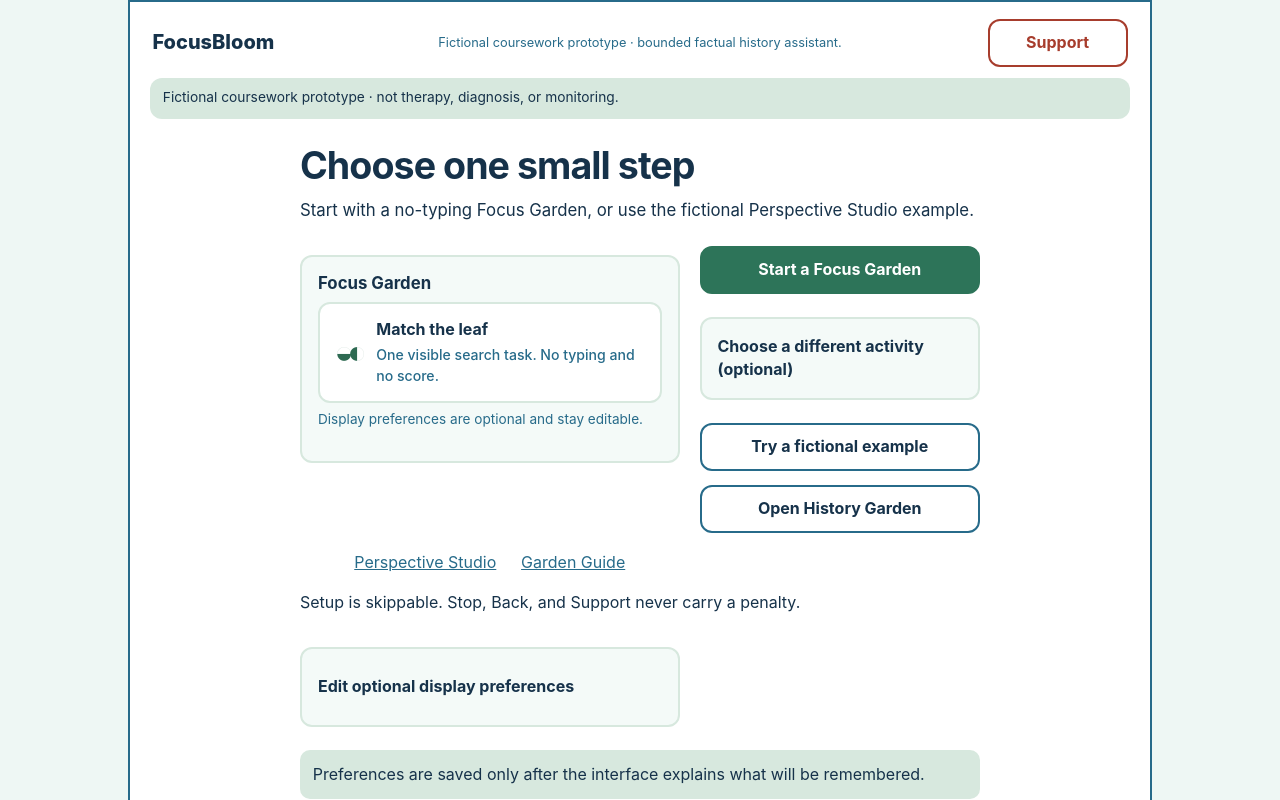
Test: FocusBloom Vue experience › shows factual populated history and a no-match Garden Guide outcome without an invented answer
Step 1. Click the button with class "secondary" showing "Open History Garden" → (840, 509), box [700,485,980,533]
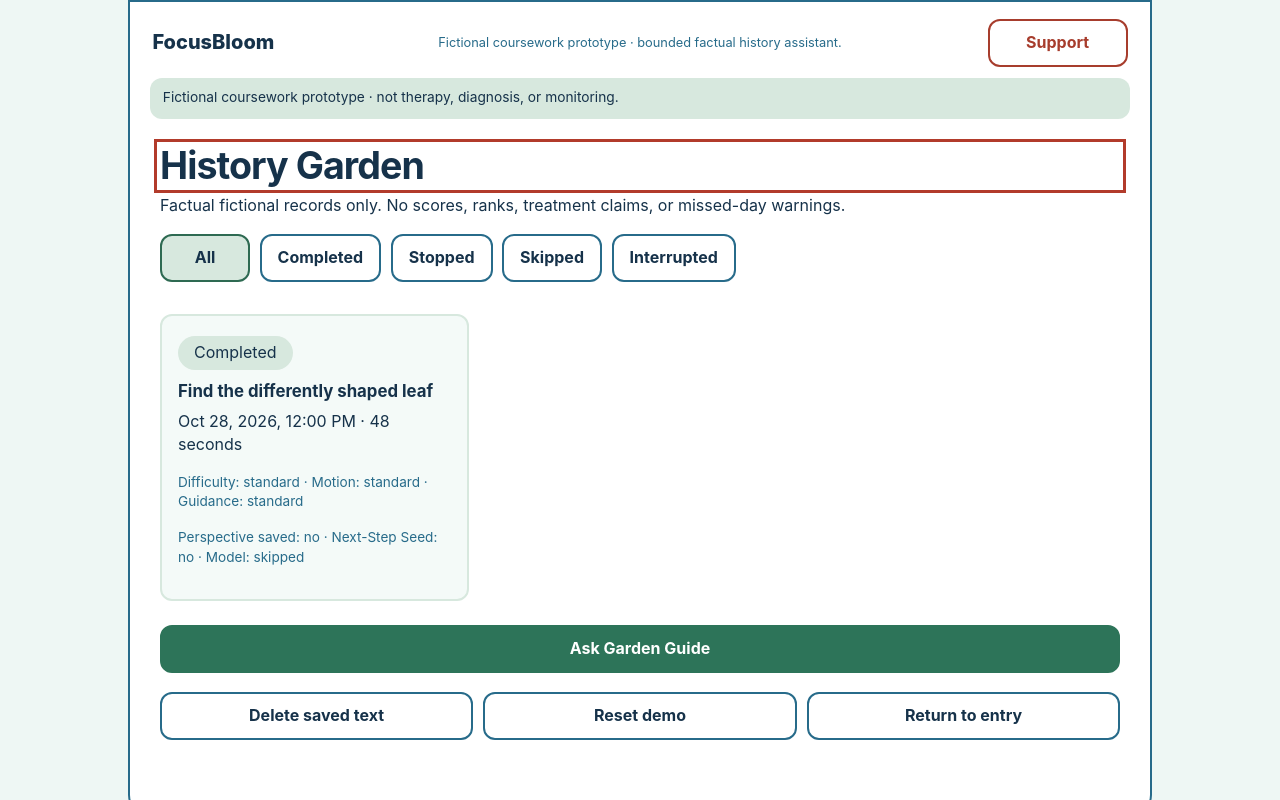
Now the element that starts with "History Garden" shows "48 seconds", box [178,411,390,454]
Step 2. Click the button "Ask Garden Guide" → (640, 648), box [160,624,1120,672]
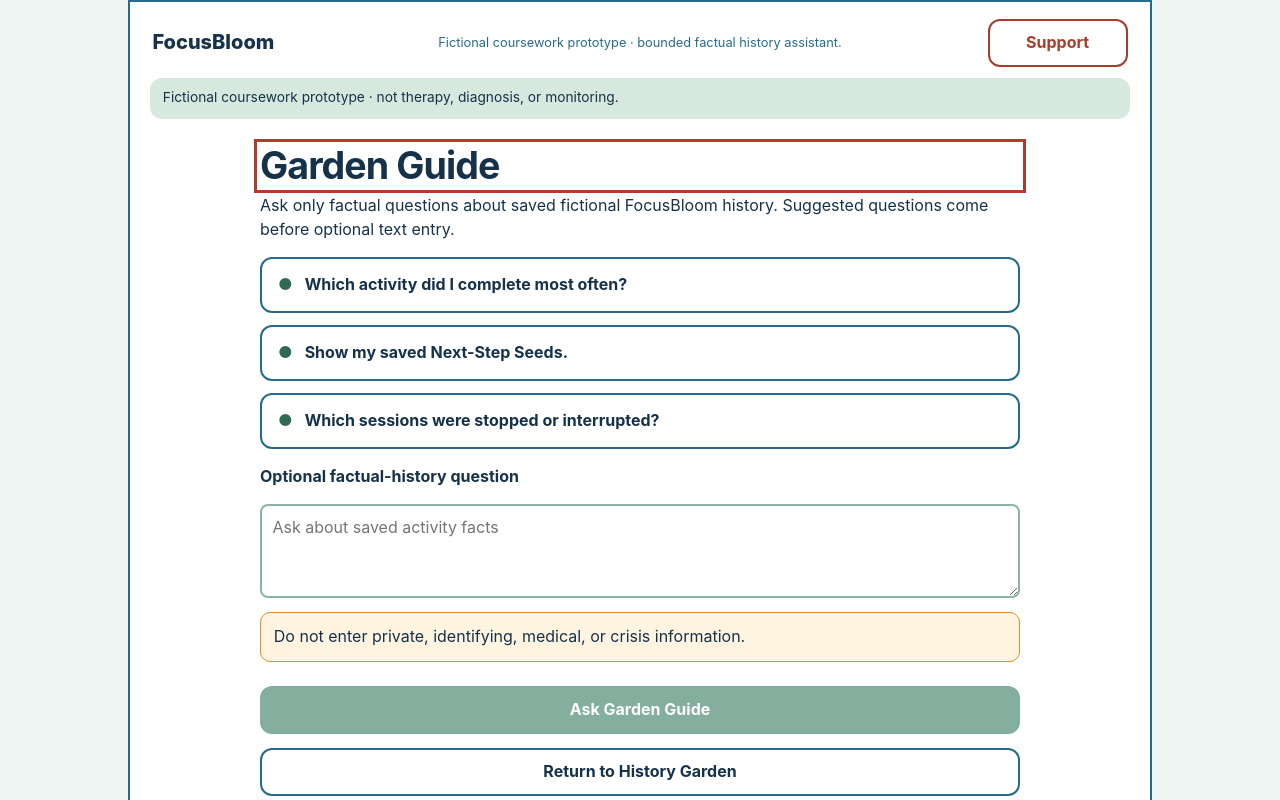
Step 3. Click the button "● Which activity did I complete most often?" → (466, 284), box [260,257,1020,313]
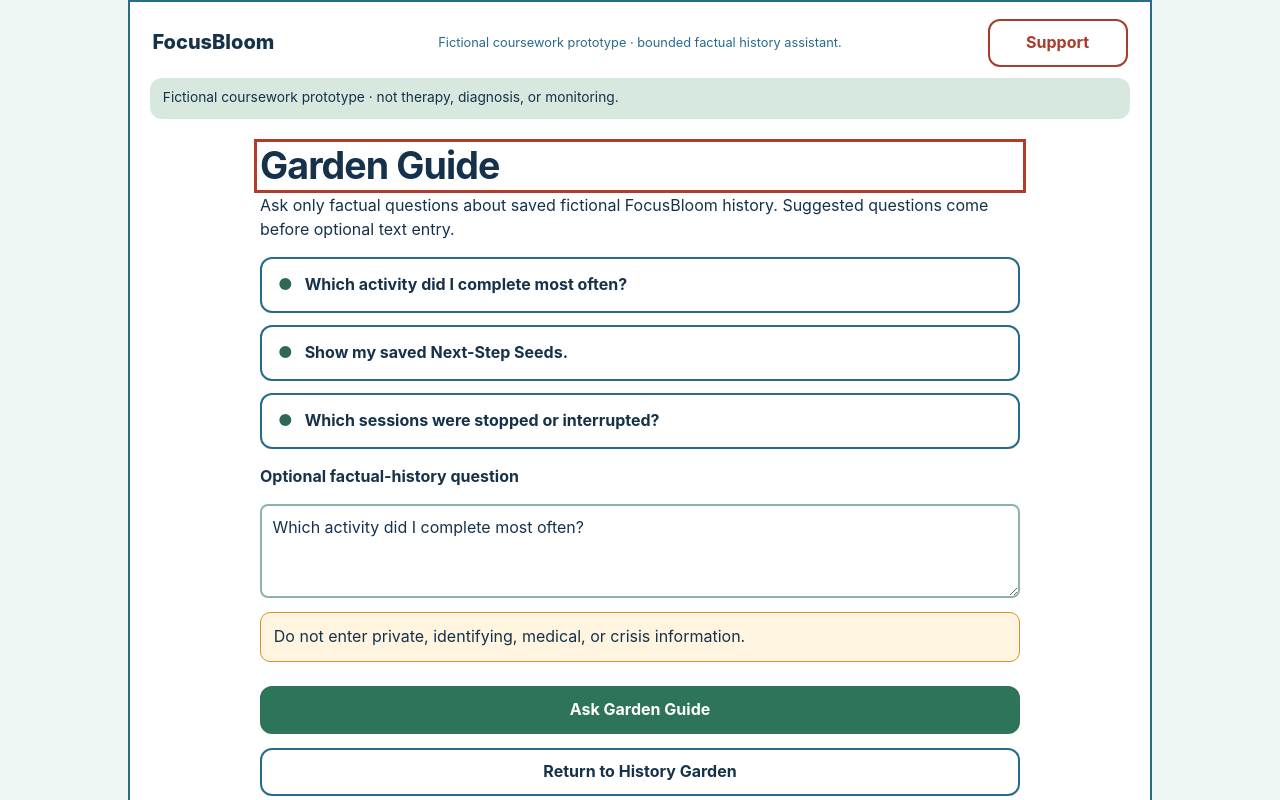
Step 4. Click the button "Ask Garden Guide" → (640, 710), box [260,686,1020,734]
(page scrolled)
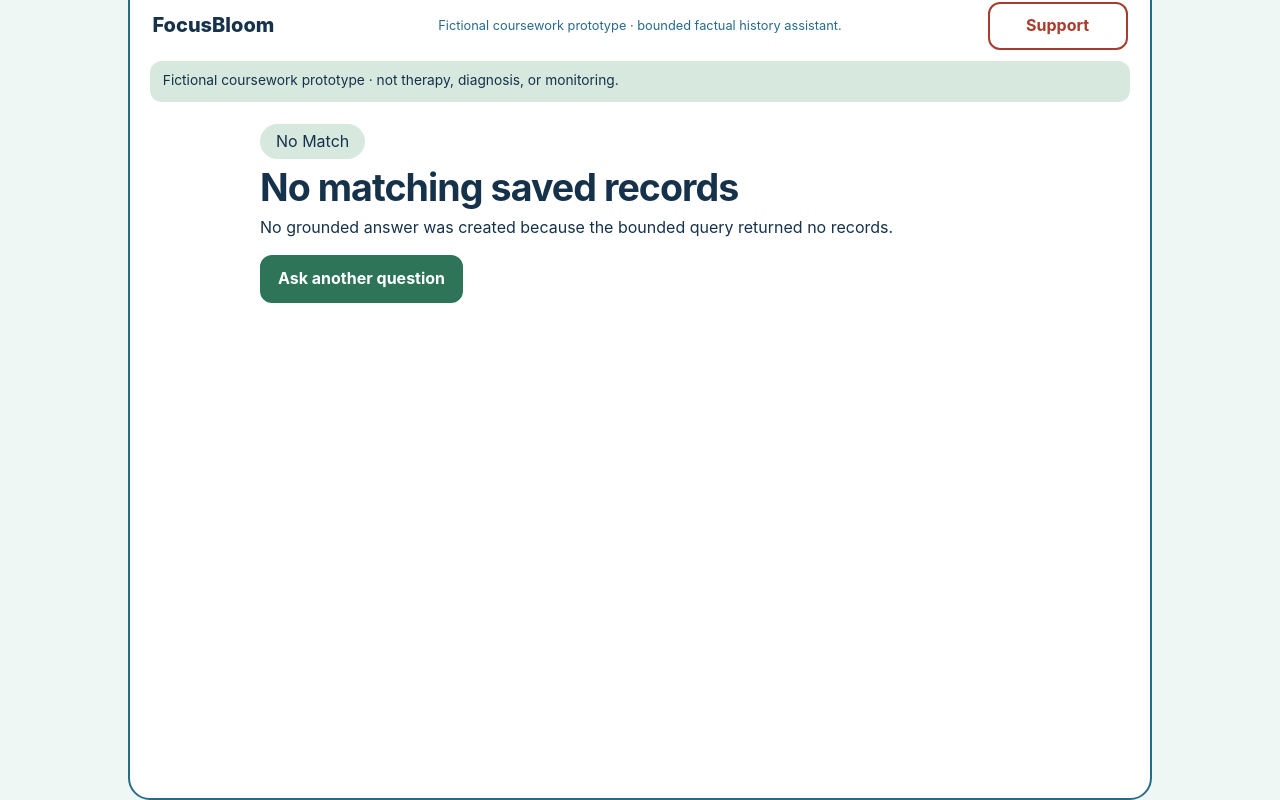
Now the element that starts with "No match" shows "No matching saved records", box [260,164,738,210]
